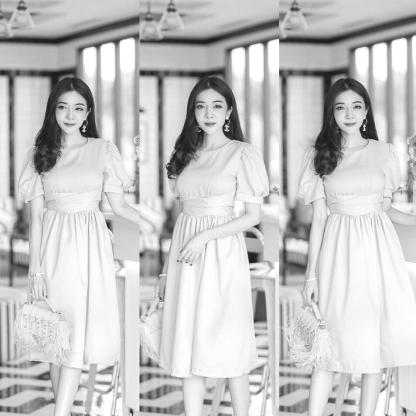dress: (295, 132, 416, 373), (17, 132, 134, 373), (155, 137, 269, 379)
